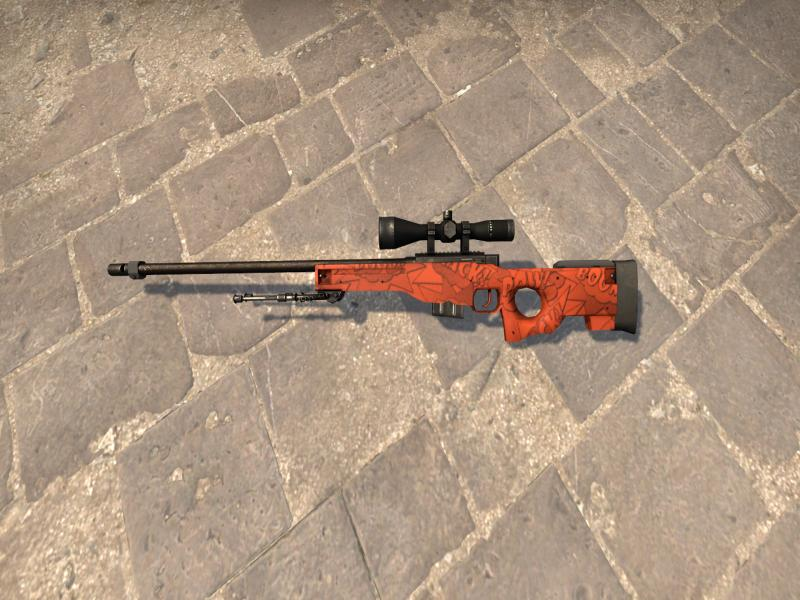AWP: (107, 209, 639, 342)
